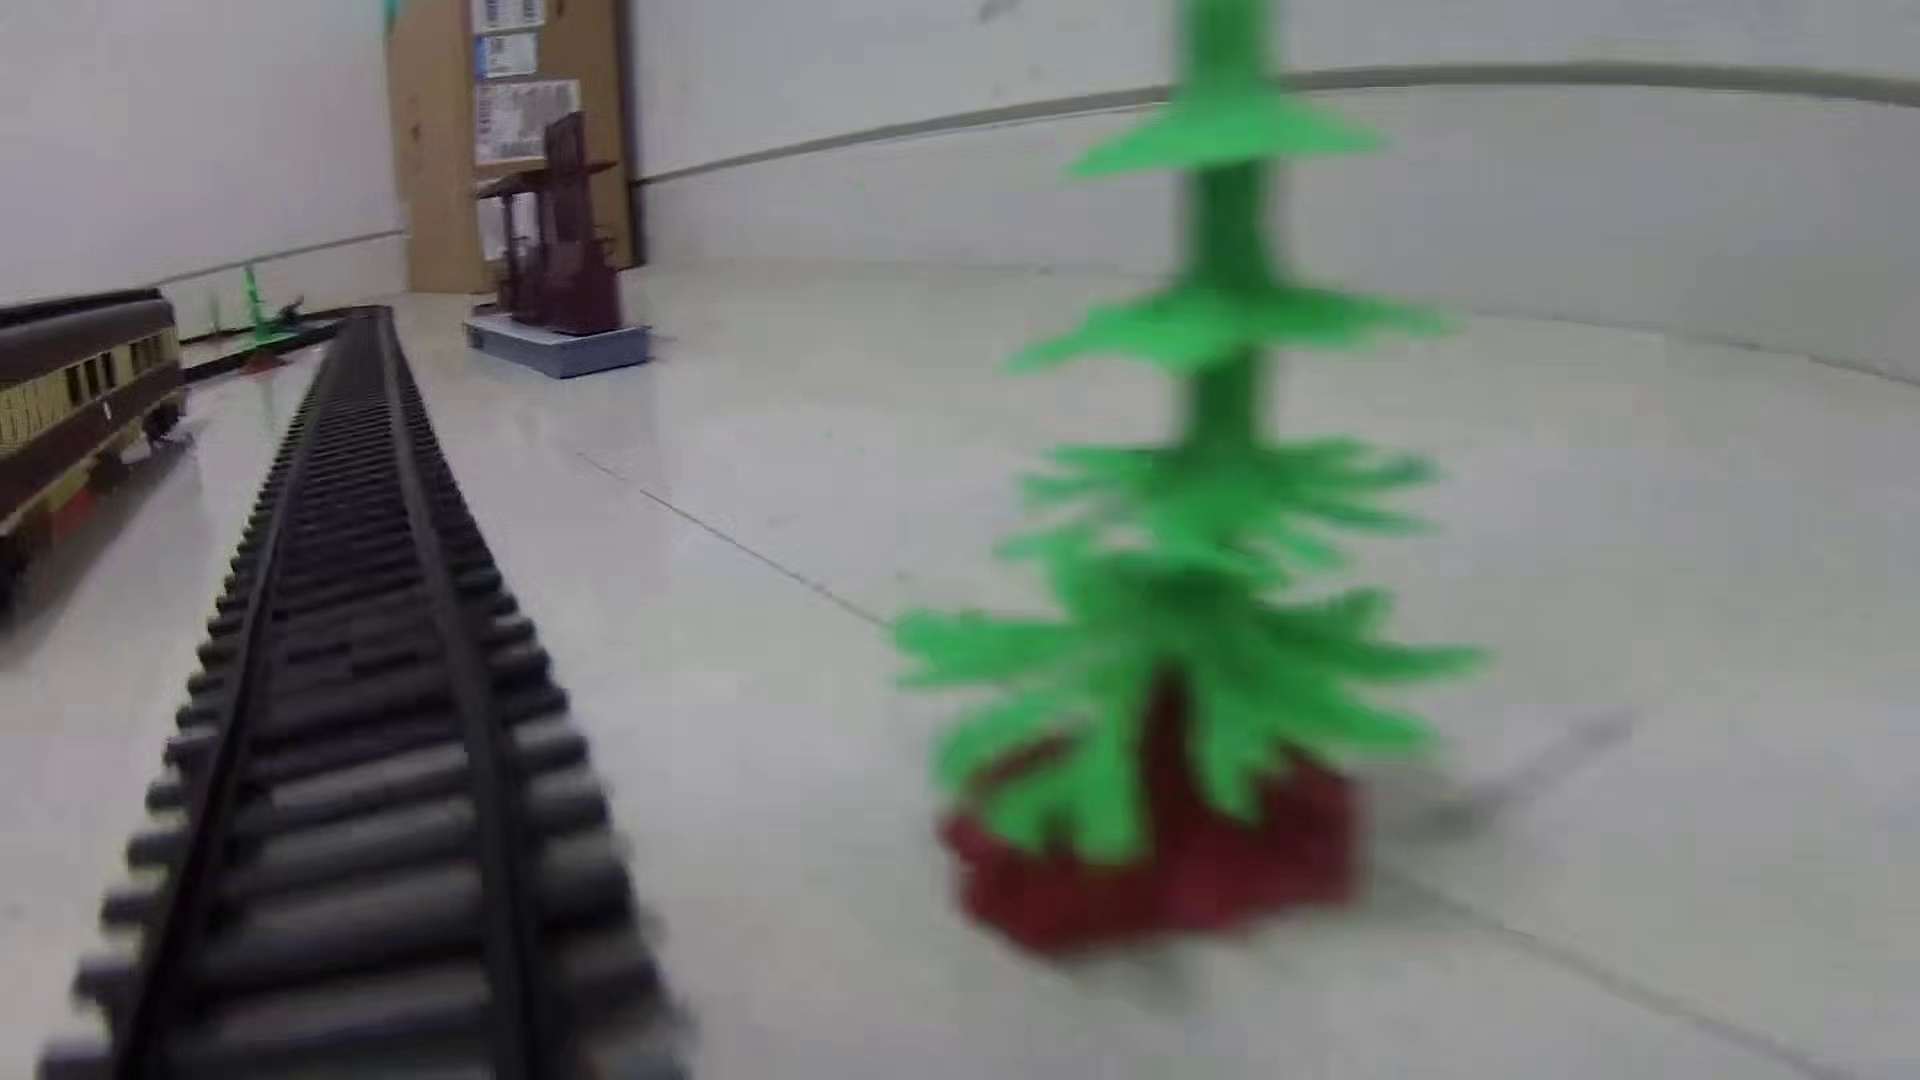tree: (889, 1, 1500, 962), (236, 264, 296, 377)
